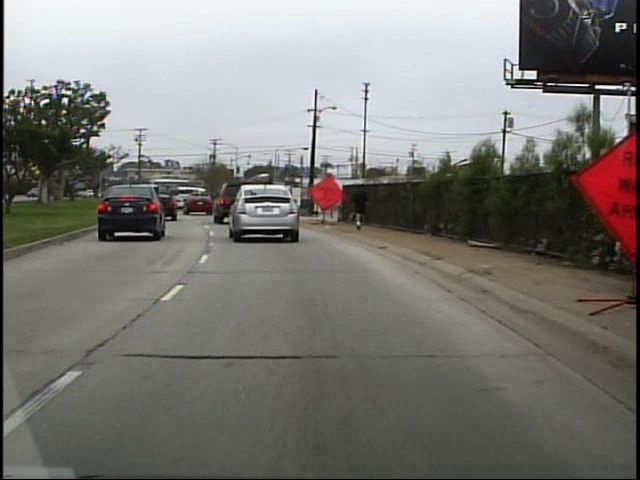person: (349, 179, 374, 233)
